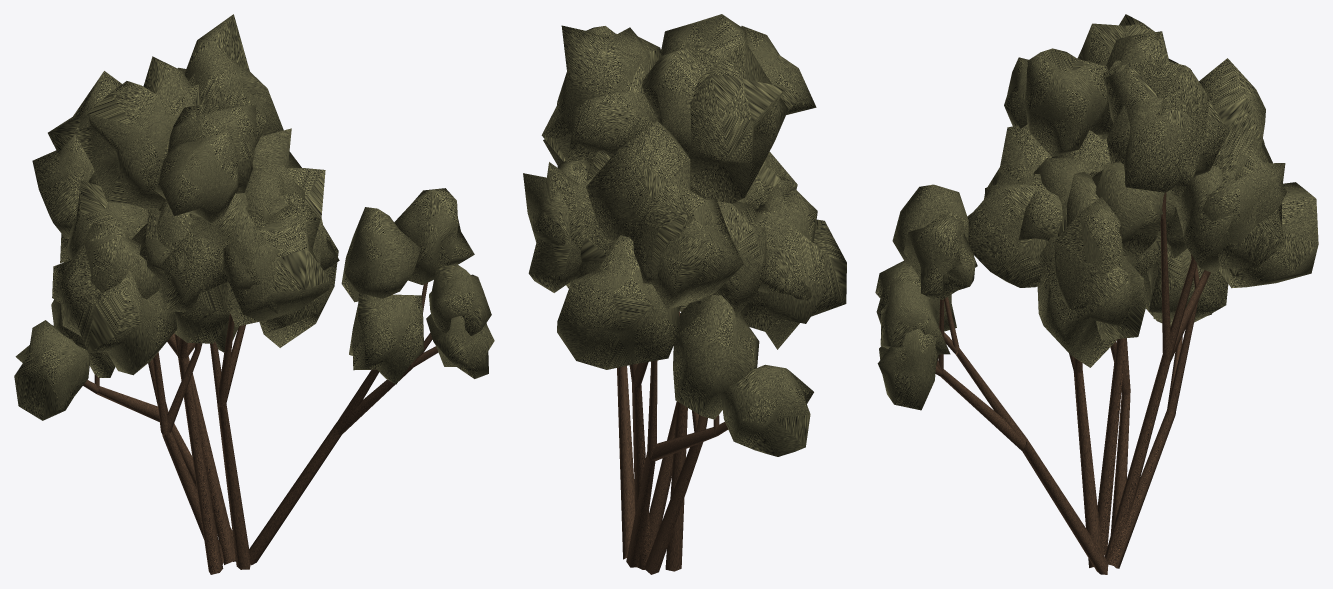
File: shrub_1.dae
3 renders of one model, left to right at view 1: azimuth 30°, elevation 25°; view 2: azimuth 150°, elevation 25°; view 3: azimuth 270°, elevation 25°, orthographic. The views are drawn at different scales.
Parts seen in each view (by area): view 1: shrub_1-node; view 2: shrub_1-node; view 3: shrub_1-node.
Part boxes in pixels (box(x1,y1,x2,y2)): shrub_1-node: box(14, 14, 494, 574); shrub_1-node: box(523, 14, 846, 574); shrub_1-node: box(875, 14, 1318, 574).
Size of the model in its own units: 0.6875 by 0.7751 by 1.
Materials: 1 (1 with a texture image).
